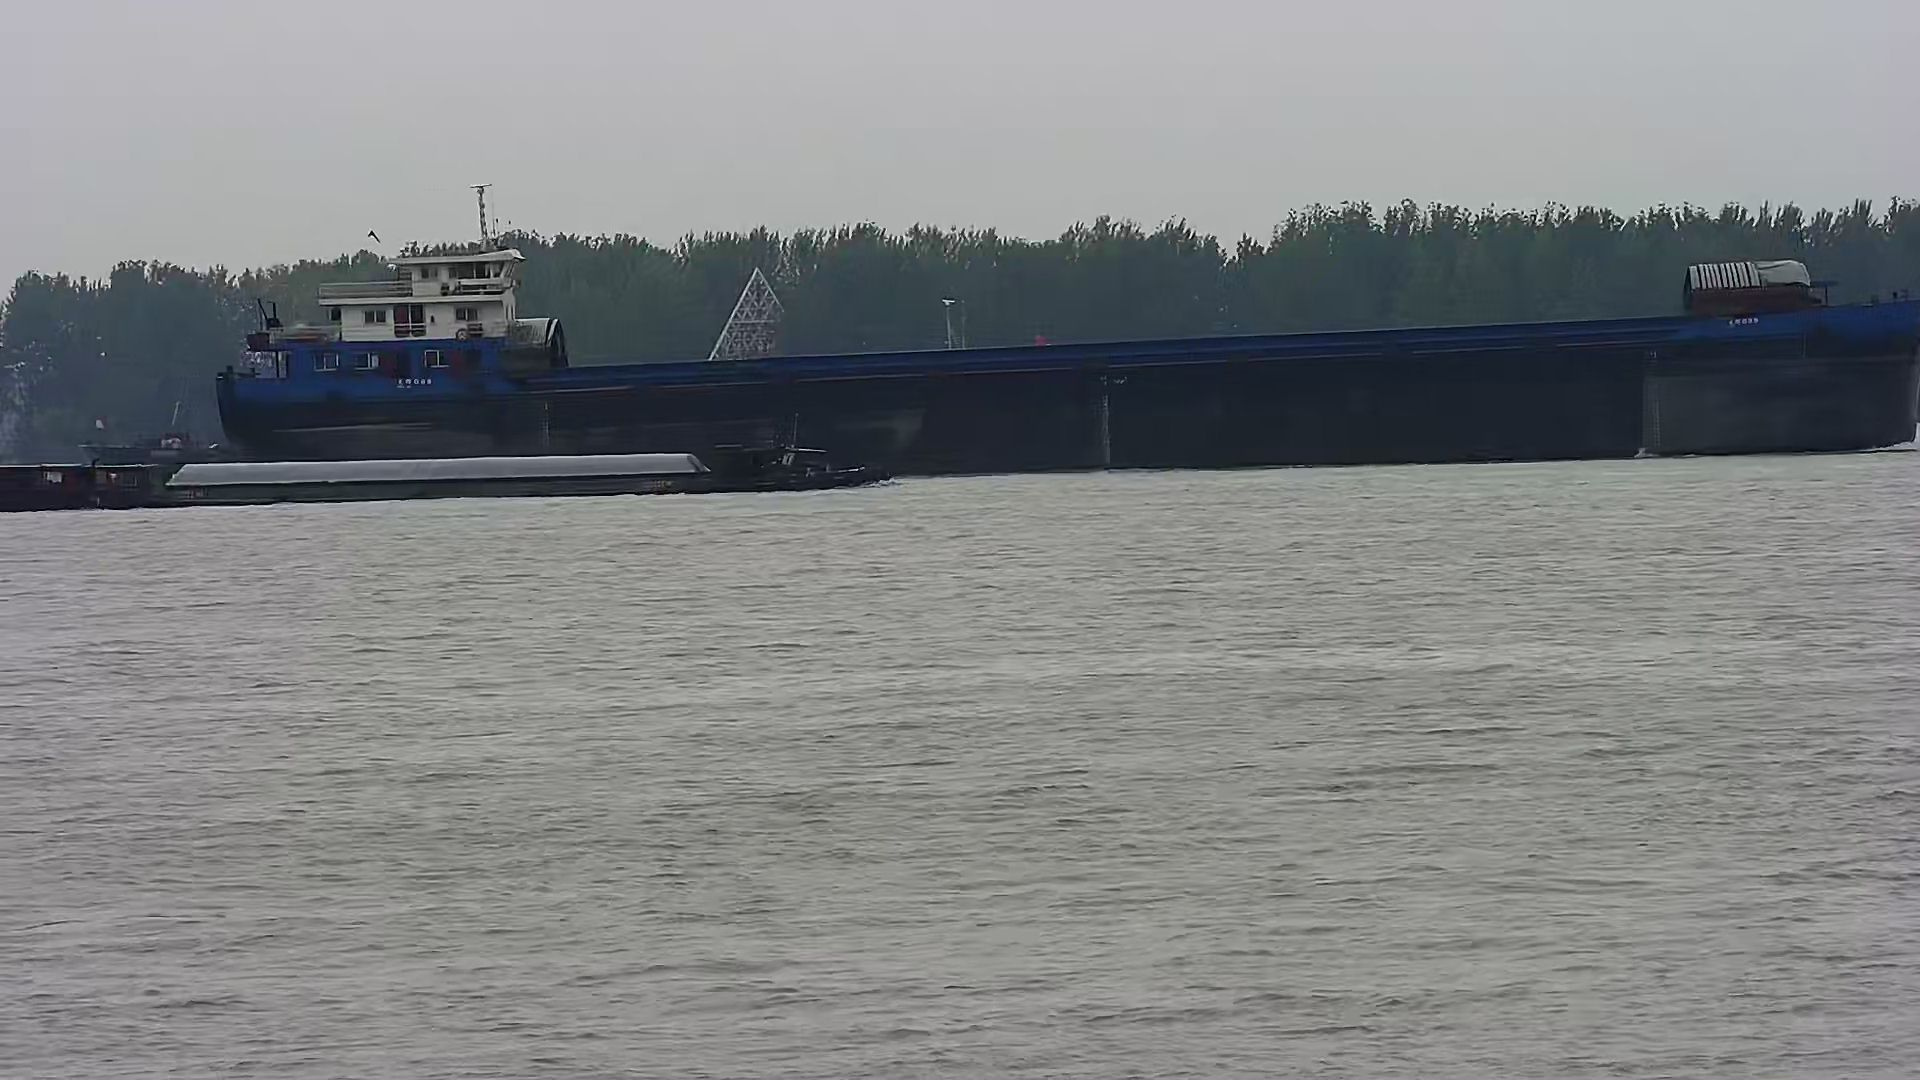ship: (212, 229, 1920, 483), (1, 426, 891, 514)
